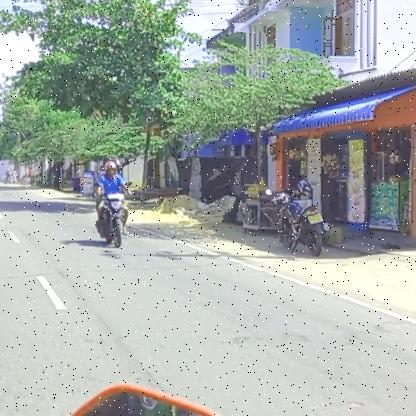motorcycle: (93, 192, 134, 250)
